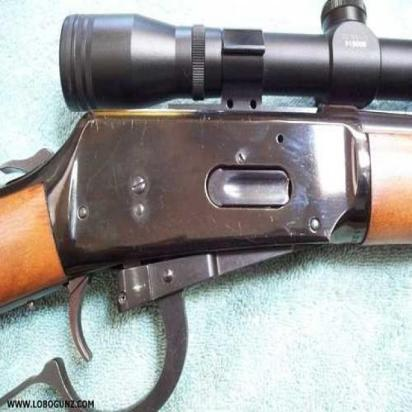Gun: (0, 0, 412, 321)
